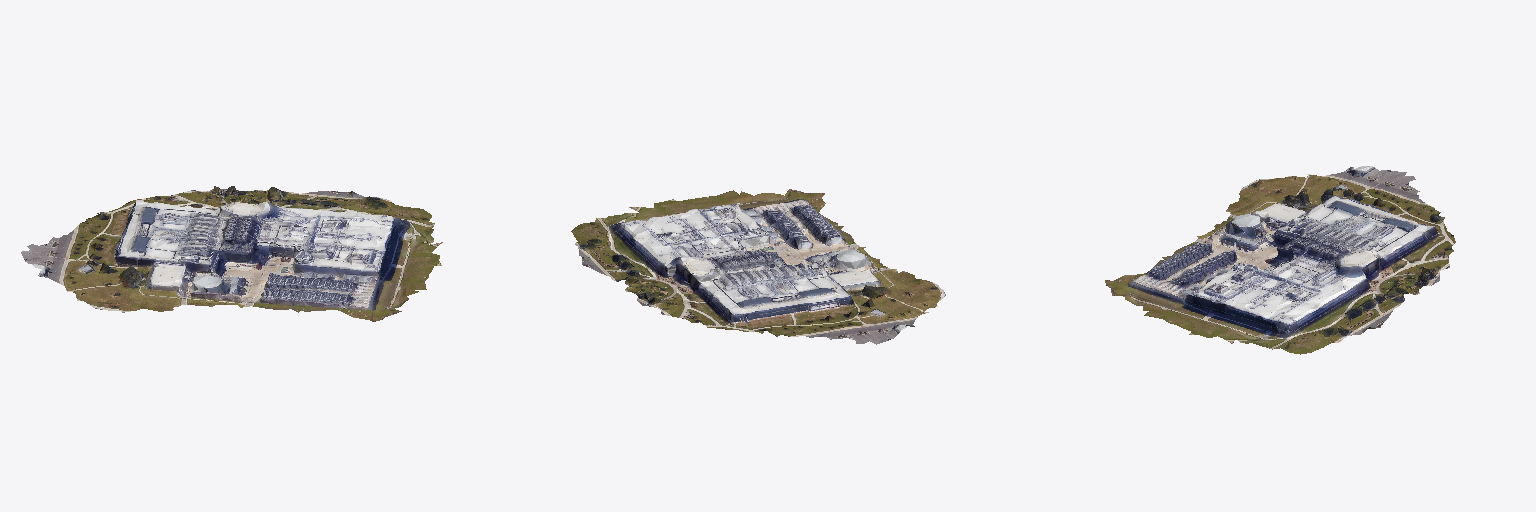
The picture shows the model from 3 angles: view 1: azimuth 30°, elevation 25°; view 2: azimuth 150°, elevation 25°; view 3: azimuth 270°, elevation 25°; orthographic projection.
Parts seen in each view (by area): view 1: nsa_sanantonio:Mesh; view 2: nsa_sanantonio:Mesh; view 3: nsa_sanantonio:Mesh.
Part boxes in pixels (left/top/right/bottom): nsa_sanantonio:Mesh: left=21, top=186, right=442, bottom=321; nsa_sanantonio:Mesh: left=571, top=189, right=945, bottom=344; nsa_sanantonio:Mesh: left=1105, top=166, right=1455, bottom=354.
Bounding box in the file's own units: 167 × 12.55 × 138.
1 materials, 1 textured.